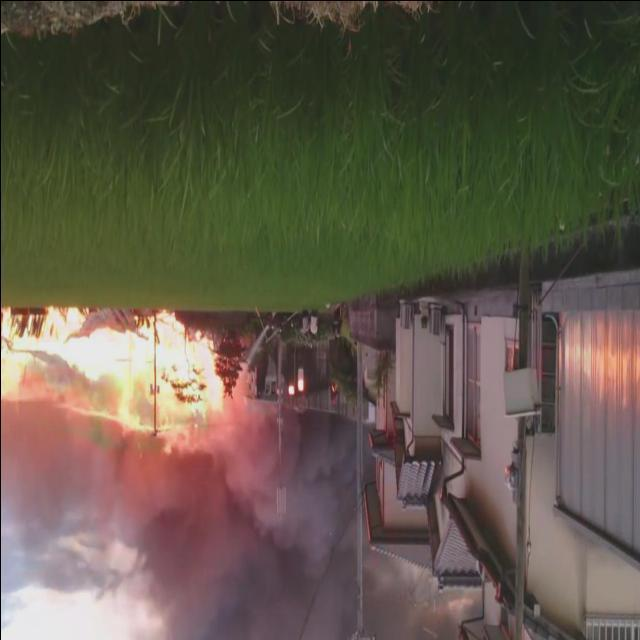Fire: (0, 311, 228, 447)
